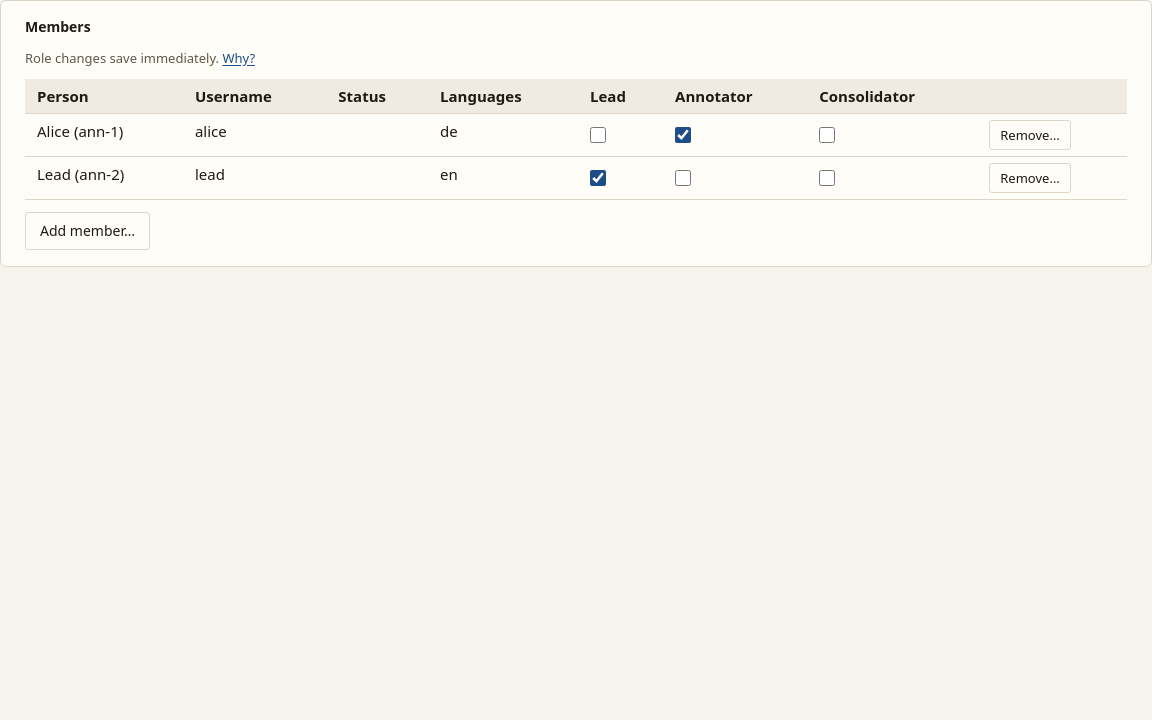
Test case: project members › confirms all actual affected assignment details before resending with revocation
Click the 2nd checkbox named "alice: Annotator" at (683, 135), box [675,127,691,143]
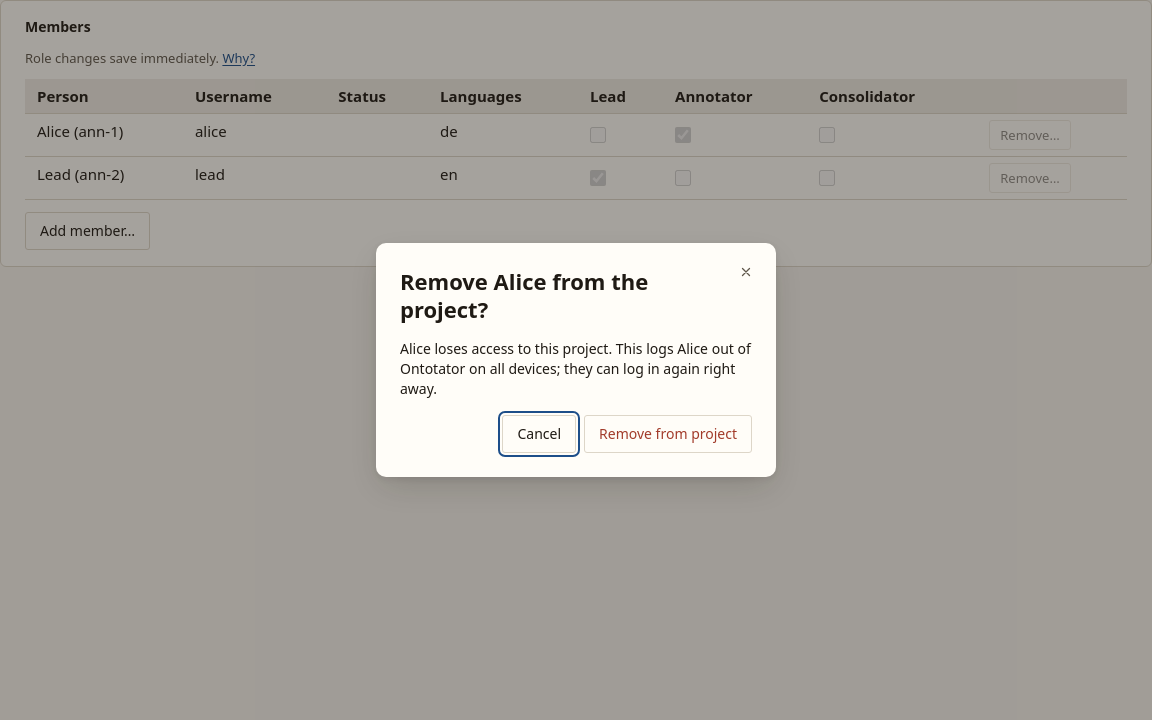
Click the button "Remove from project" at (668, 434), box [584,415,752,453]
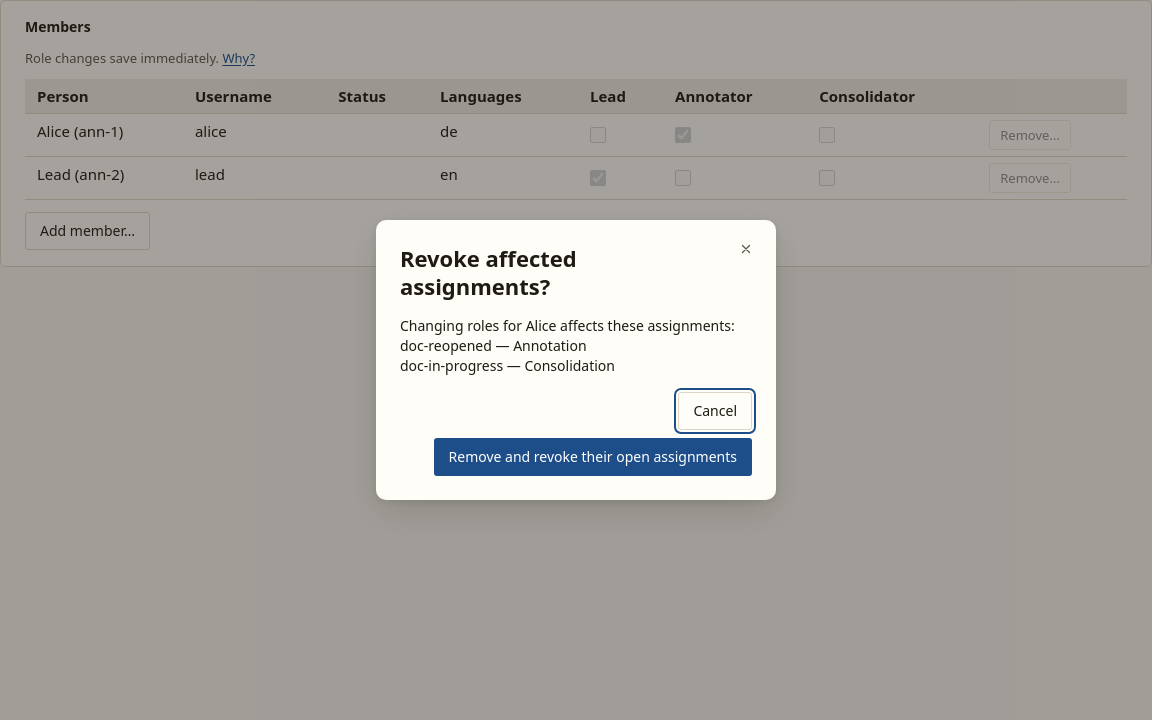
Expected: the list item "doc-reopened — Annotation" is shown, [400,336,586,355]
Expected: the list item "doc-in-progress — Consolidation" is shown, [400,356,615,375]
Click the button "Remove and revoke their open assignments" at (593, 457), box [434,438,752,476]
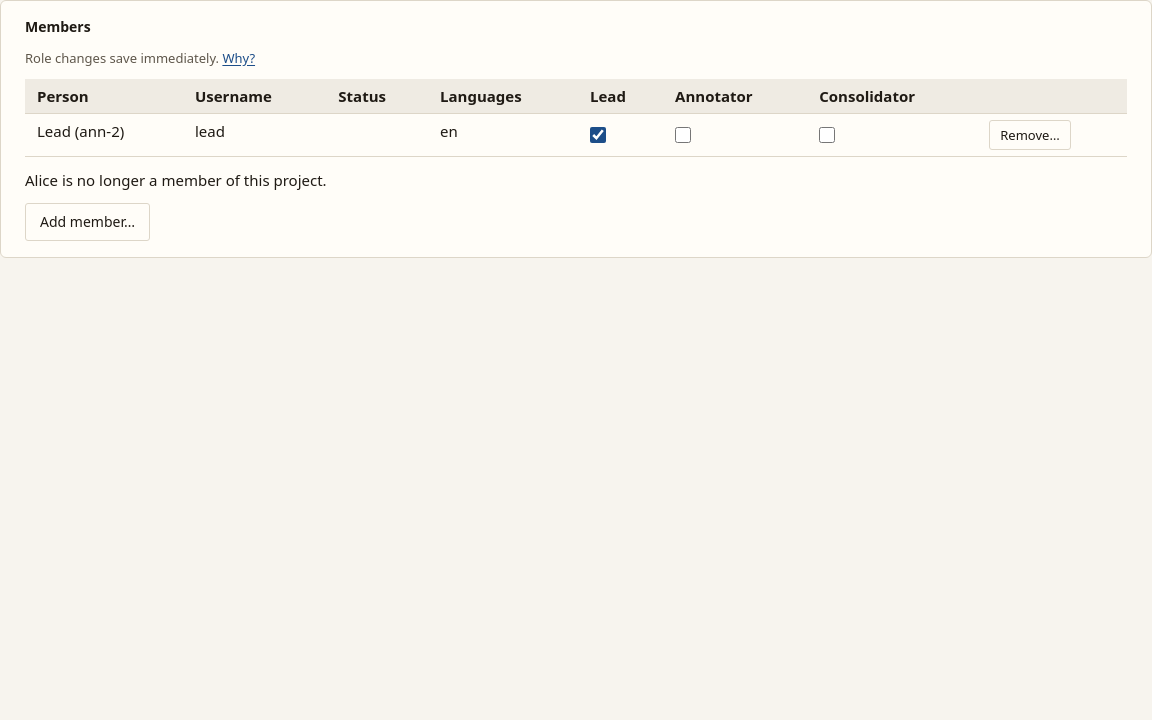
Expected: the checkbox labelled "alice: Annotator" is not shown
Expected: the dialog is gone
